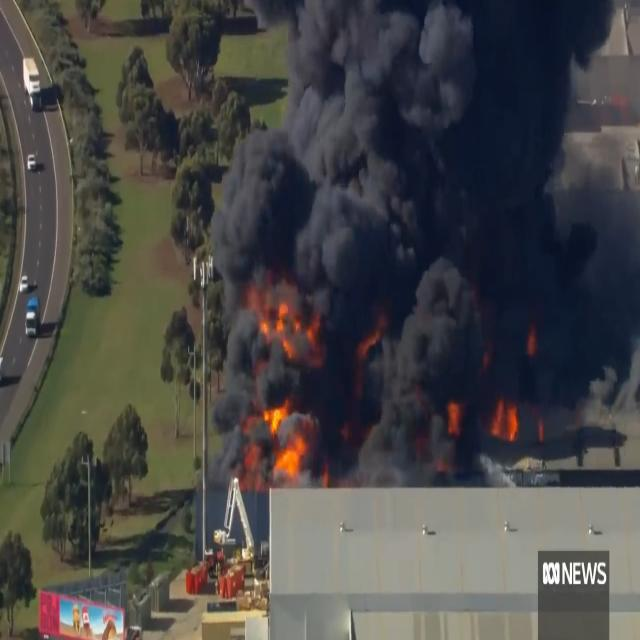fire: (262, 284, 320, 352), (266, 429, 313, 484), (490, 394, 529, 444), (442, 384, 470, 443), (263, 391, 294, 431), (354, 324, 386, 362), (524, 318, 542, 360)
